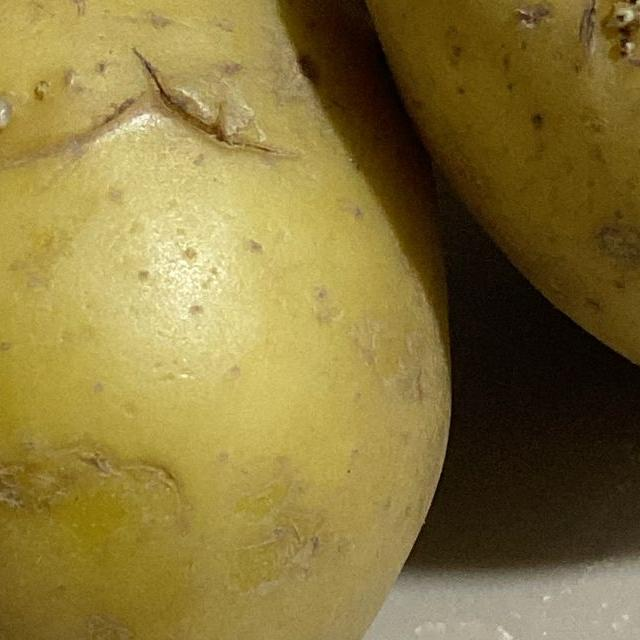potato: (0, 0, 491, 640), (338, 0, 640, 425)
